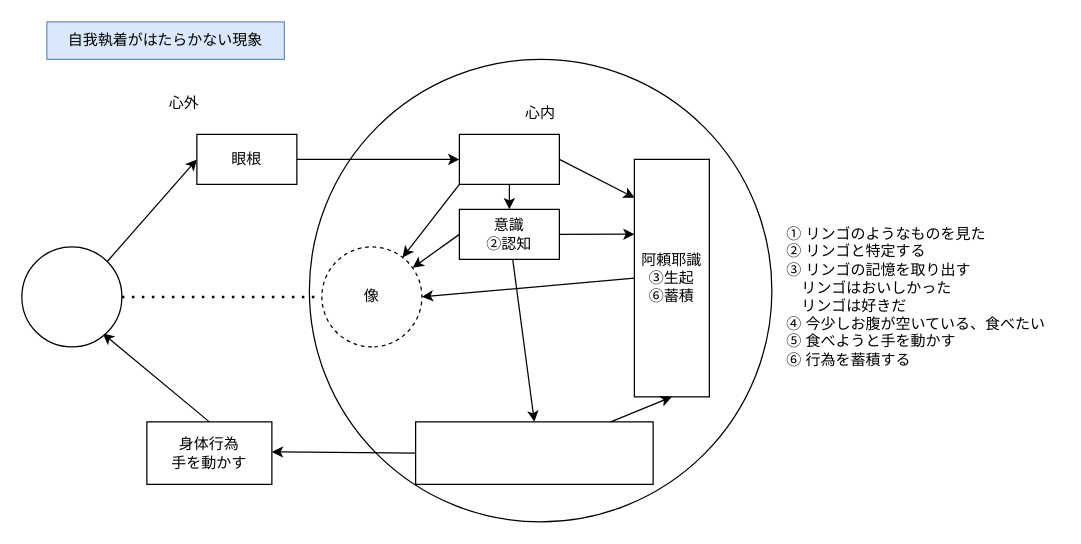
This 1081x544 diagram has some shape labels left out. Here are the shapes that lost their labels. From the top down, the centre of each, then its label:
the point at 508,158: 眼識 ①検知
the point at 71,296: リンゴ (実像)
the point at 533,452: 心所（細かい振る舞い） ④ 食べたい ⑤行為の契機
